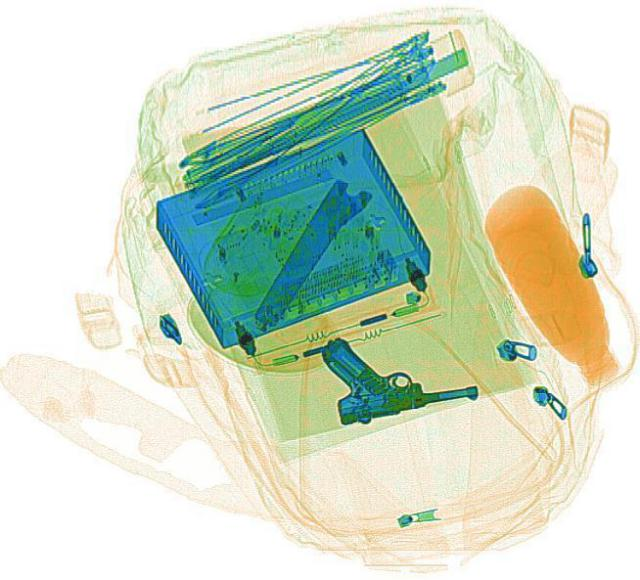Gun: (313, 316, 482, 426)
